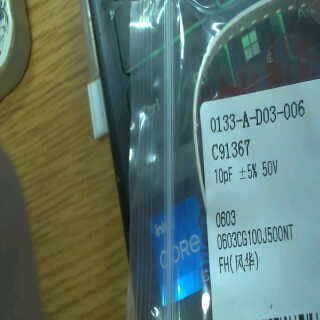10pF: (214, 163, 234, 187)
